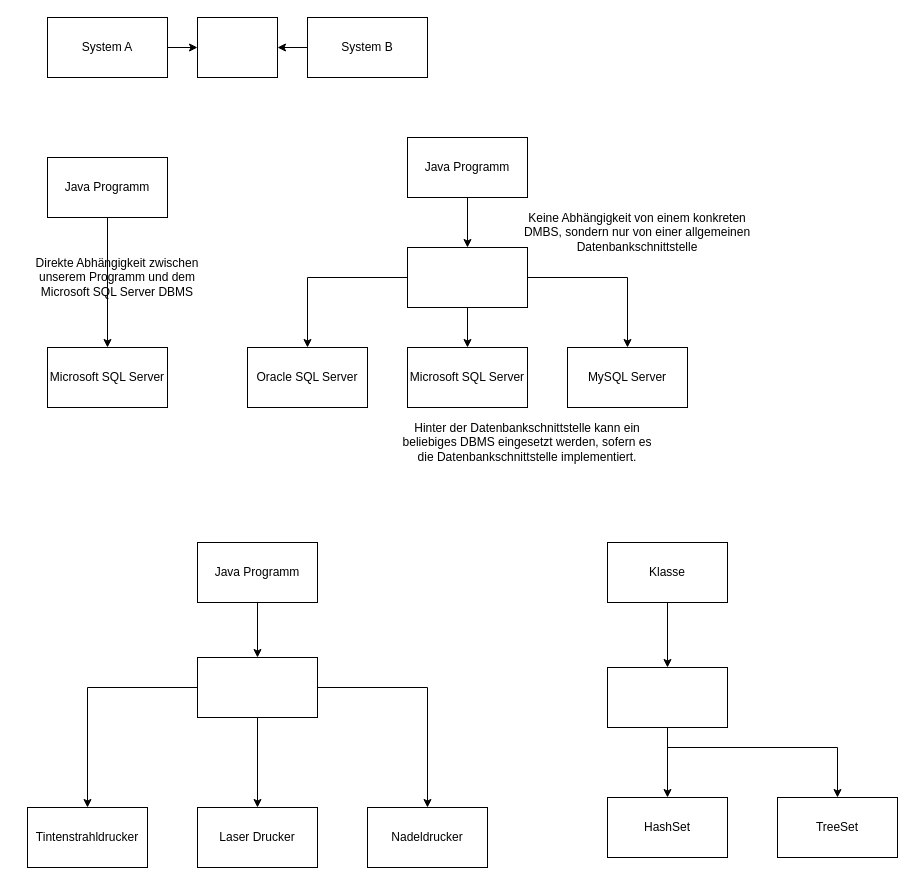
This 915x885 diagram has some shape labels left out. The shapes that lost their labels are listed below. From the top down, each one's centre as x and y in pixels, then its label:
point 237,47: Schnittstelle
point 467,277: Datenbankschnittelle (API)
point 257,687: Drucker Schnittstelle (Printer API)
point 667,697: Set (Schnittstelle)
